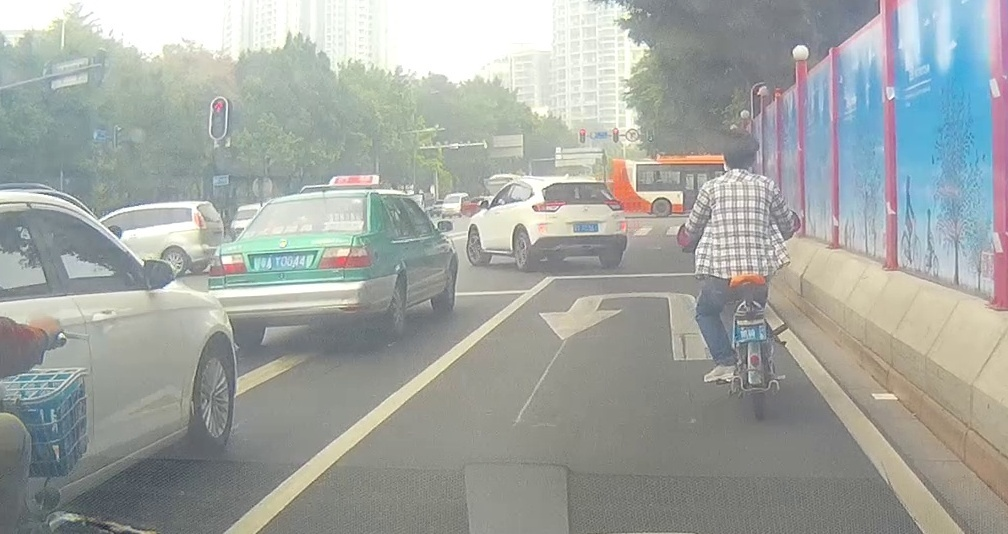L_light: (211, 253, 247, 276), (531, 199, 566, 213)
R_light: (318, 246, 371, 267), (604, 199, 625, 211)
T_light: (278, 227, 307, 233), (574, 182, 591, 186)
day-no: (210, 189, 375, 348), (530, 176, 628, 272), (261, 253, 307, 270)
